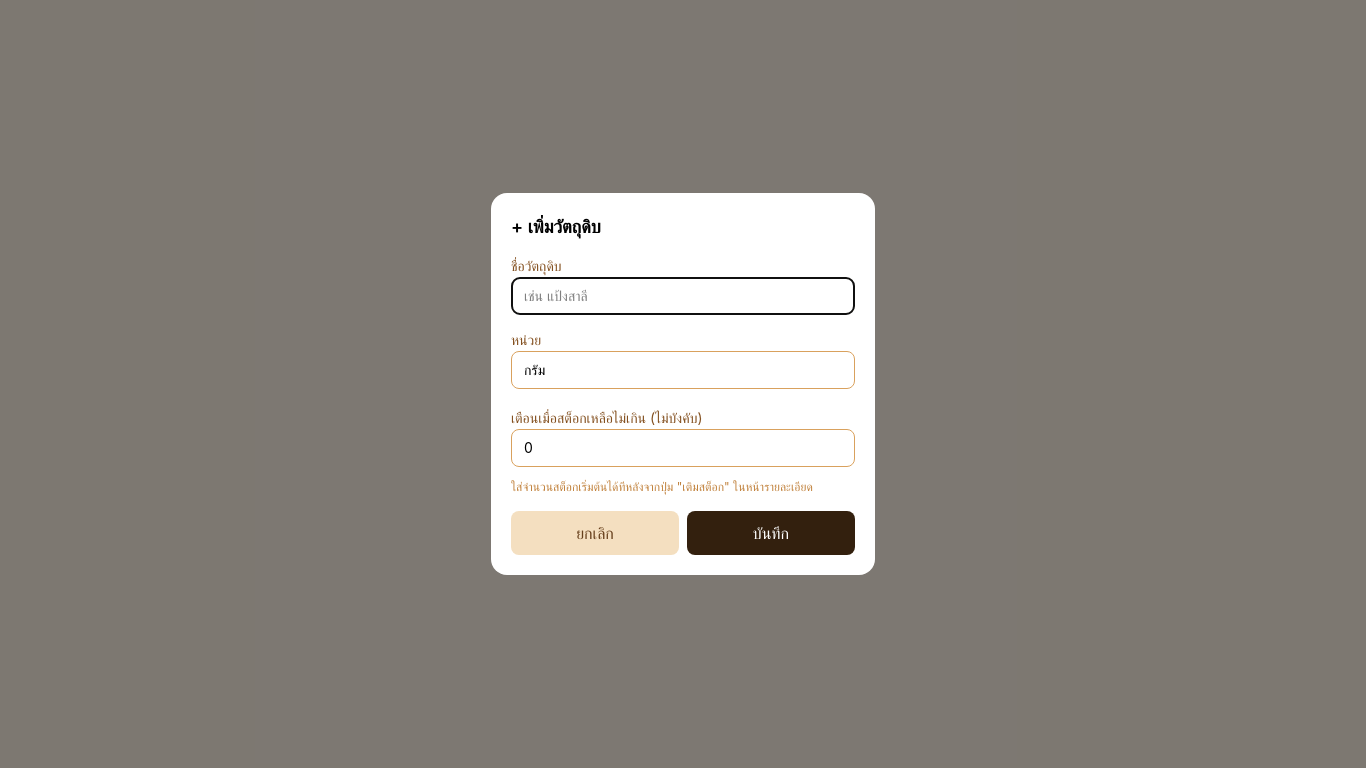
IngredientFormModal › ไม่กรอกชื่อ กดบันทึกแล้วขึ้น error ไม่ยิง saveIngredient
Click the button "บันทึก".
click(771, 533)  # box left=687, top=511, right=855, bottom=555
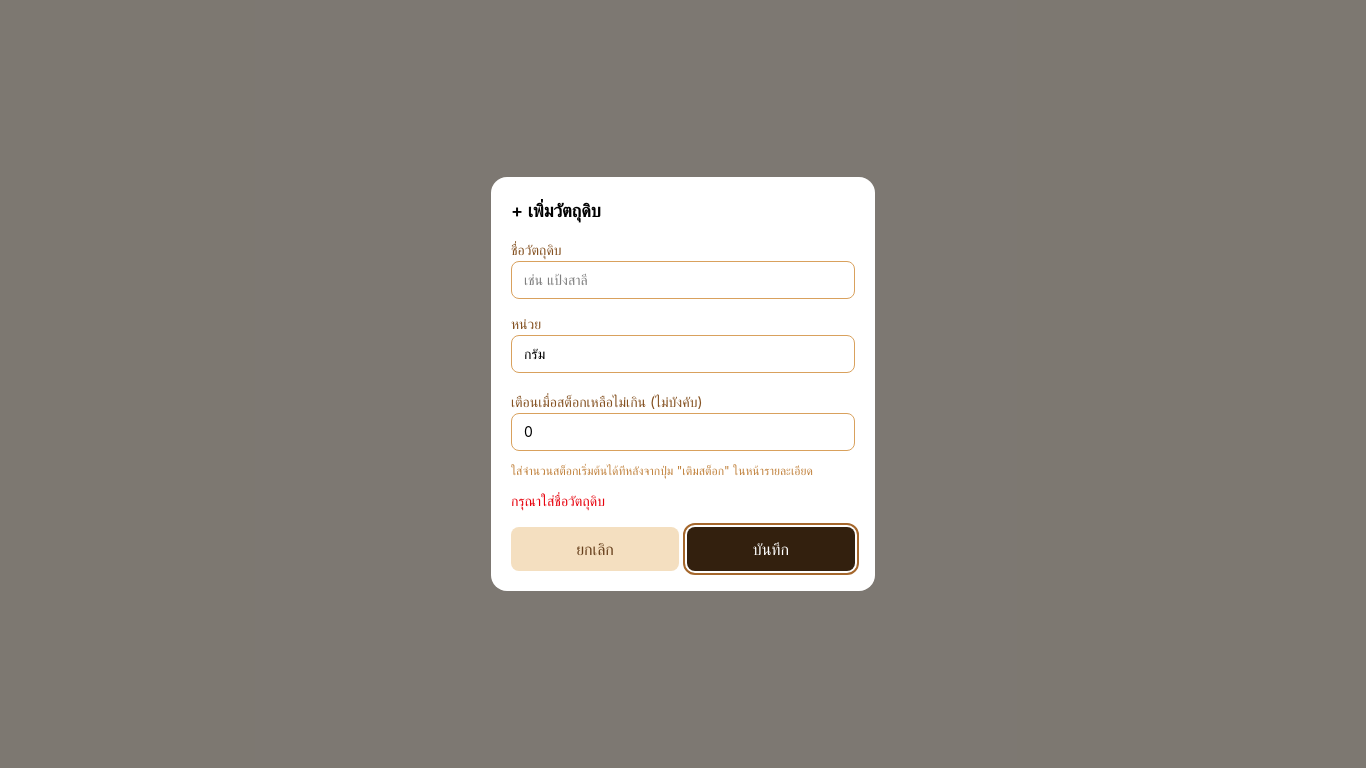
Now the text "กรุณาใส่ชื่อวัตถุดิบ" is shown, box left=511, top=492, right=605, bottom=509
